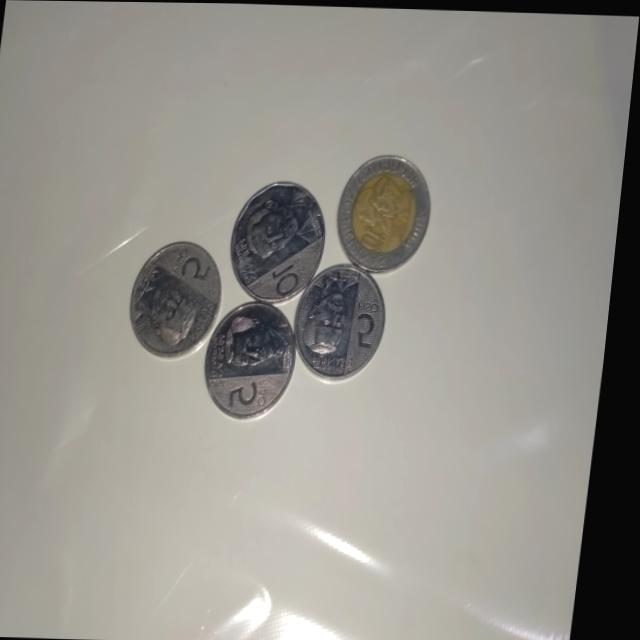10_New_Front: (234, 188, 333, 302)
10_Old_Front: (347, 162, 435, 262)
5_New_Front: (212, 305, 299, 419), (305, 268, 398, 368), (141, 245, 223, 343)
